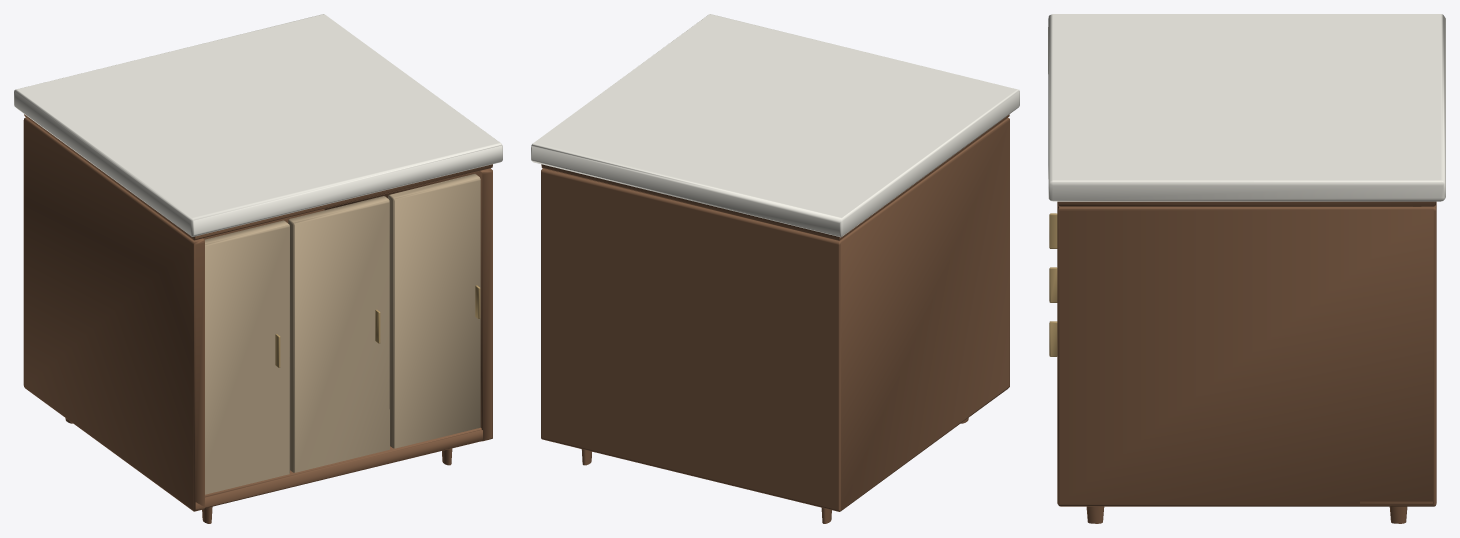
The model's file is cabinet-19-0.lod.glb.
3 views of the same model, side by side, from view 1: azimuth 30°, elevation 25°; view 2: azimuth 150°, elevation 25°; view 3: azimuth 270°, elevation 25° (orthographic). The views are drawn at different scales.
Visible parts, largest first — view 1: upholstery (×2), worktop, part; view 2: part, worktop; view 3: part, worktop, upholstery.
Boxes of the visible parts, x1,y1,x2,y2 form: upholstery (×2): (204,174,480,494); worktop: (14,14,502,236); part: (23,114,492,523); part: (541,114,1009,523); worktop: (531,14,1019,237); part: (1057,201,1436,523); worktop: (1048,14,1445,201); upholstery: (1049,213,1057,356).
Size of the model in its own units: 0.9999 by 1 by 1.
